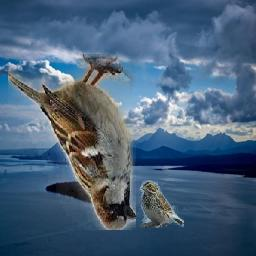Sparrow: (8, 54, 136, 230), (140, 180, 185, 228)
